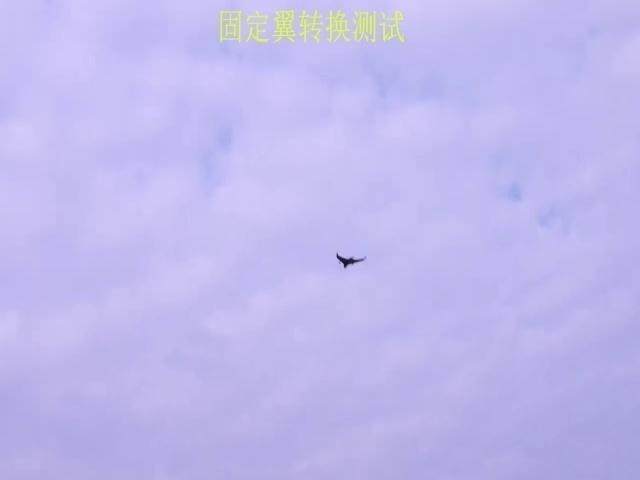Airplane: (335, 252, 367, 269)
